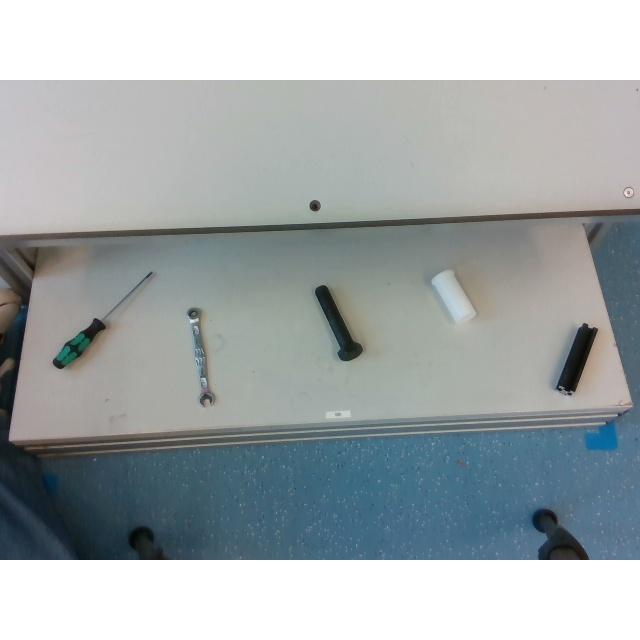F20_20_B: (556, 323, 596, 392)
M20_100: (314, 284, 362, 360)
Screwdriver: (52, 271, 152, 367)
Spacer: (431, 269, 475, 321)
Wrench: (187, 307, 215, 405)
